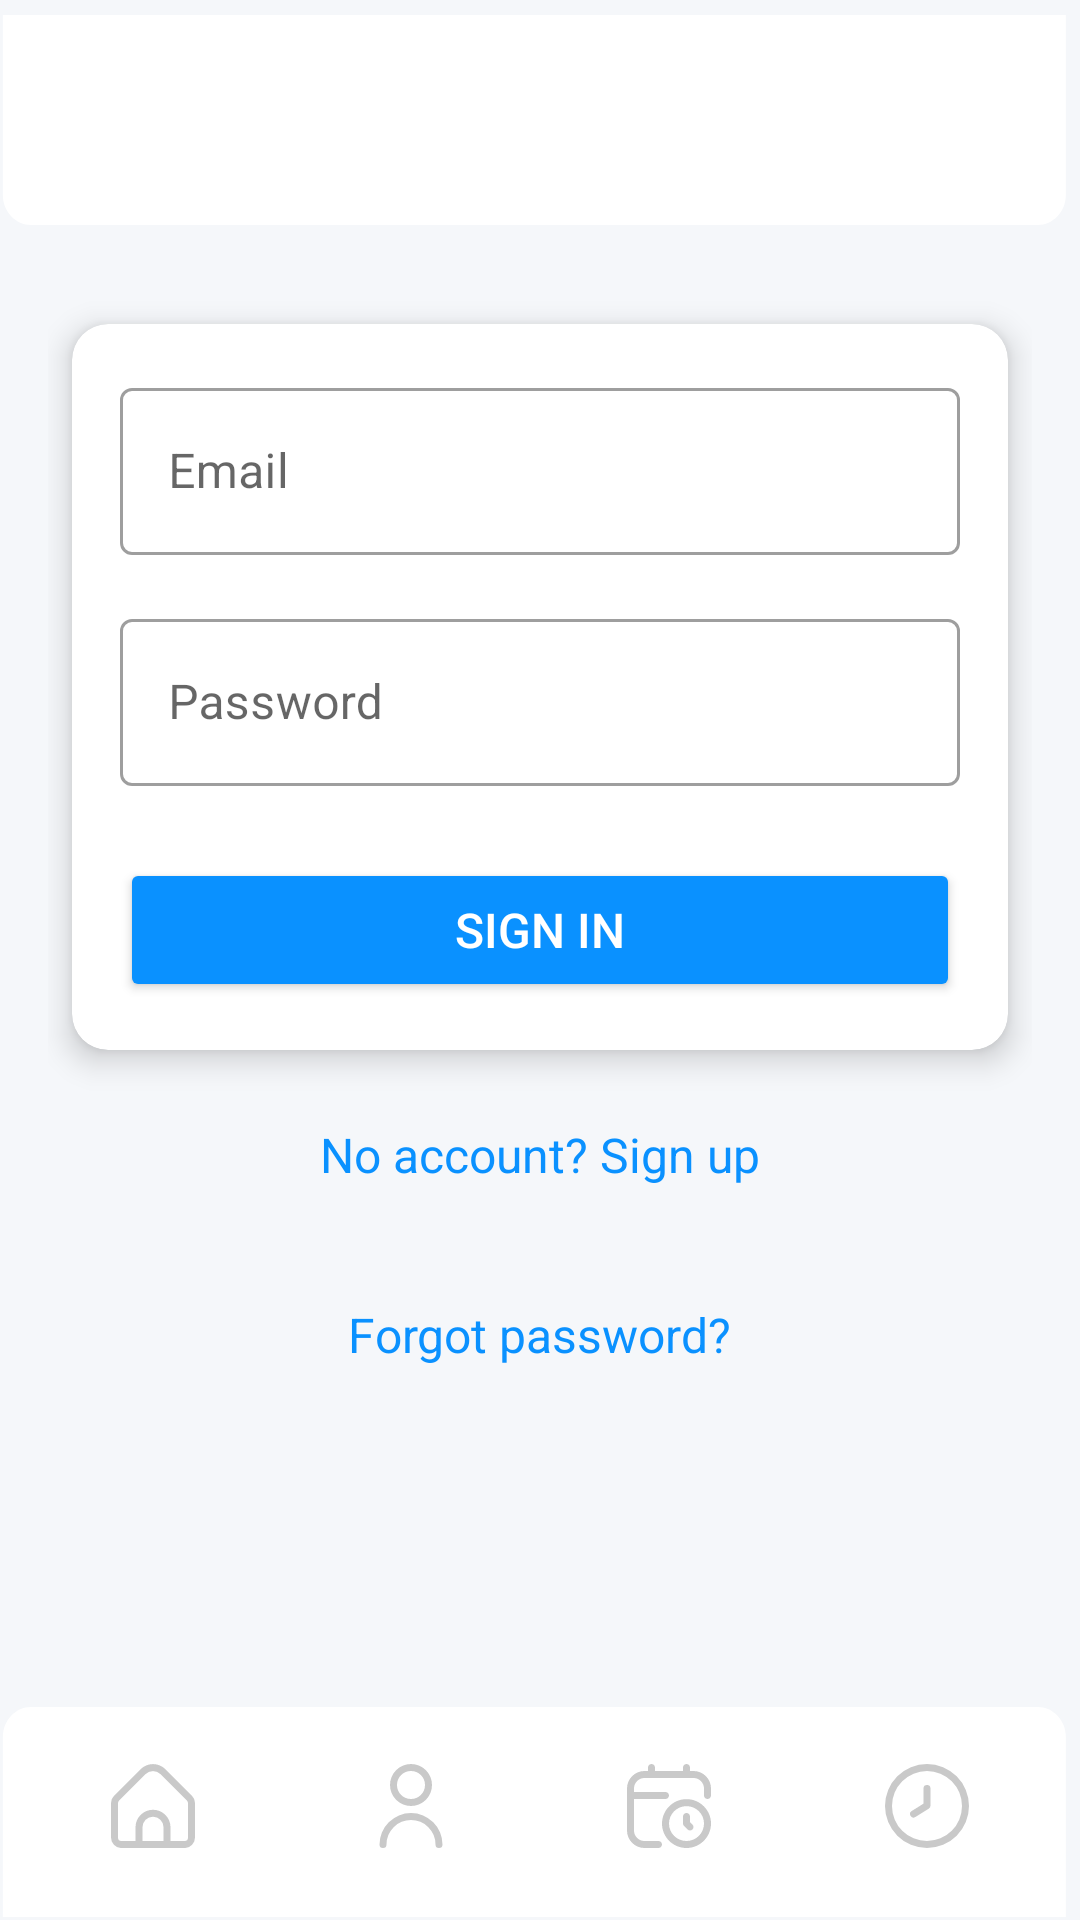

Icon click points for this 1080*1920 phone screenshot, format (x,y):
calendar clock: (669,1806)
clock: (927,1806)
home: (153,1806)
user: (411,1806)
